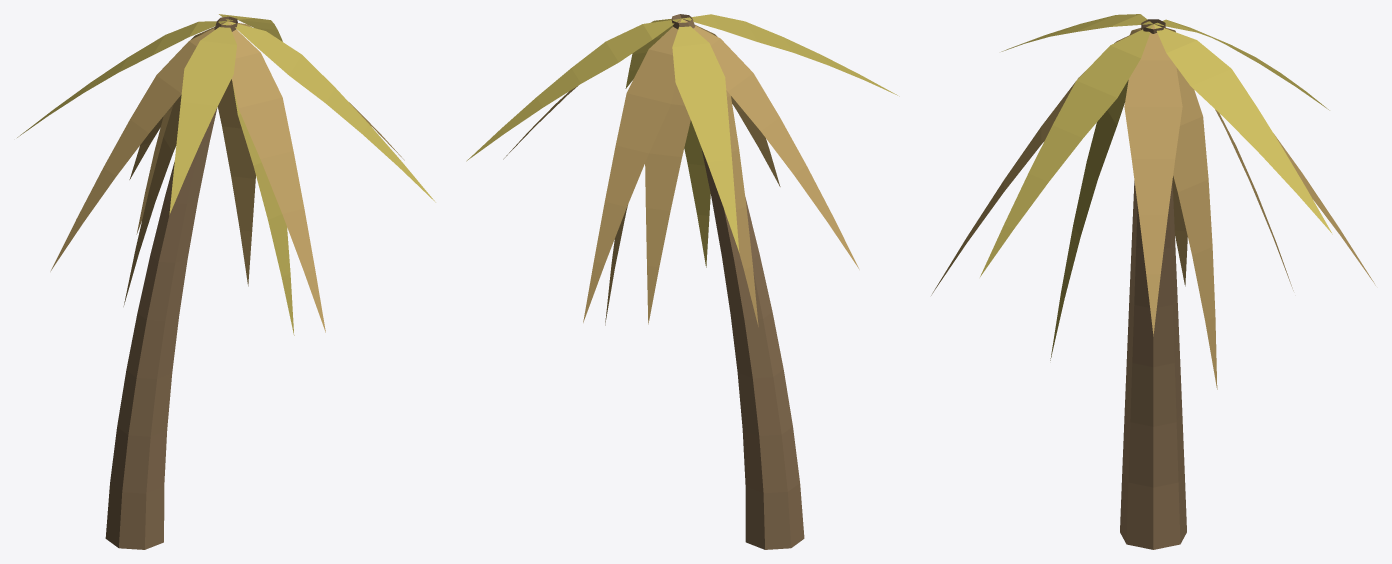
Rendered from DeadPalmTree.fbx.
3 views of the same model, side by side, from view 1: azimuth 30°, elevation 25°; view 2: azimuth 150°, elevation 25°; view 3: azimuth 270°, elevation 25° (orthographic). The views are drawn at different scales.
Visible parts, largest first — view 1: DeadPalmTree_DeadLeafMat, DeadPalmTree_DeadTrunkMat, DeadPalmTree_DryLeafMat; view 2: DeadPalmTree_DeadLeafMat, DeadPalmTree_DeadTrunkMat, DeadPalmTree_DryLeafMat; view 3: DeadPalmTree_DeadLeafMat, DeadPalmTree_DryLeafMat, DeadPalmTree_DeadTrunkMat.
Boxes of the visible parts, x1,y1,x2,y2 form: DeadPalmTree_DeadLeafMat: (50,21,404,332); DeadPalmTree_DeadTrunkMat: (105,16,237,549); DeadPalmTree_DryLeafMat: (17,14,435,335); DeadPalmTree_DeadLeafMat: (503,19,859,326); DeadPalmTree_DeadTrunkMat: (671,14,804,549); DeadPalmTree_DryLeafMat: (466,14,899,267); DeadPalmTree_DeadLeafMat: (931,24,1375,389); DeadPalmTree_DryLeafMat: (980,14,1332,360); DeadPalmTree_DeadTrunkMat: (1120,19,1186,549).
Bounding box in the file's own units: 606 × 800 × 578.
